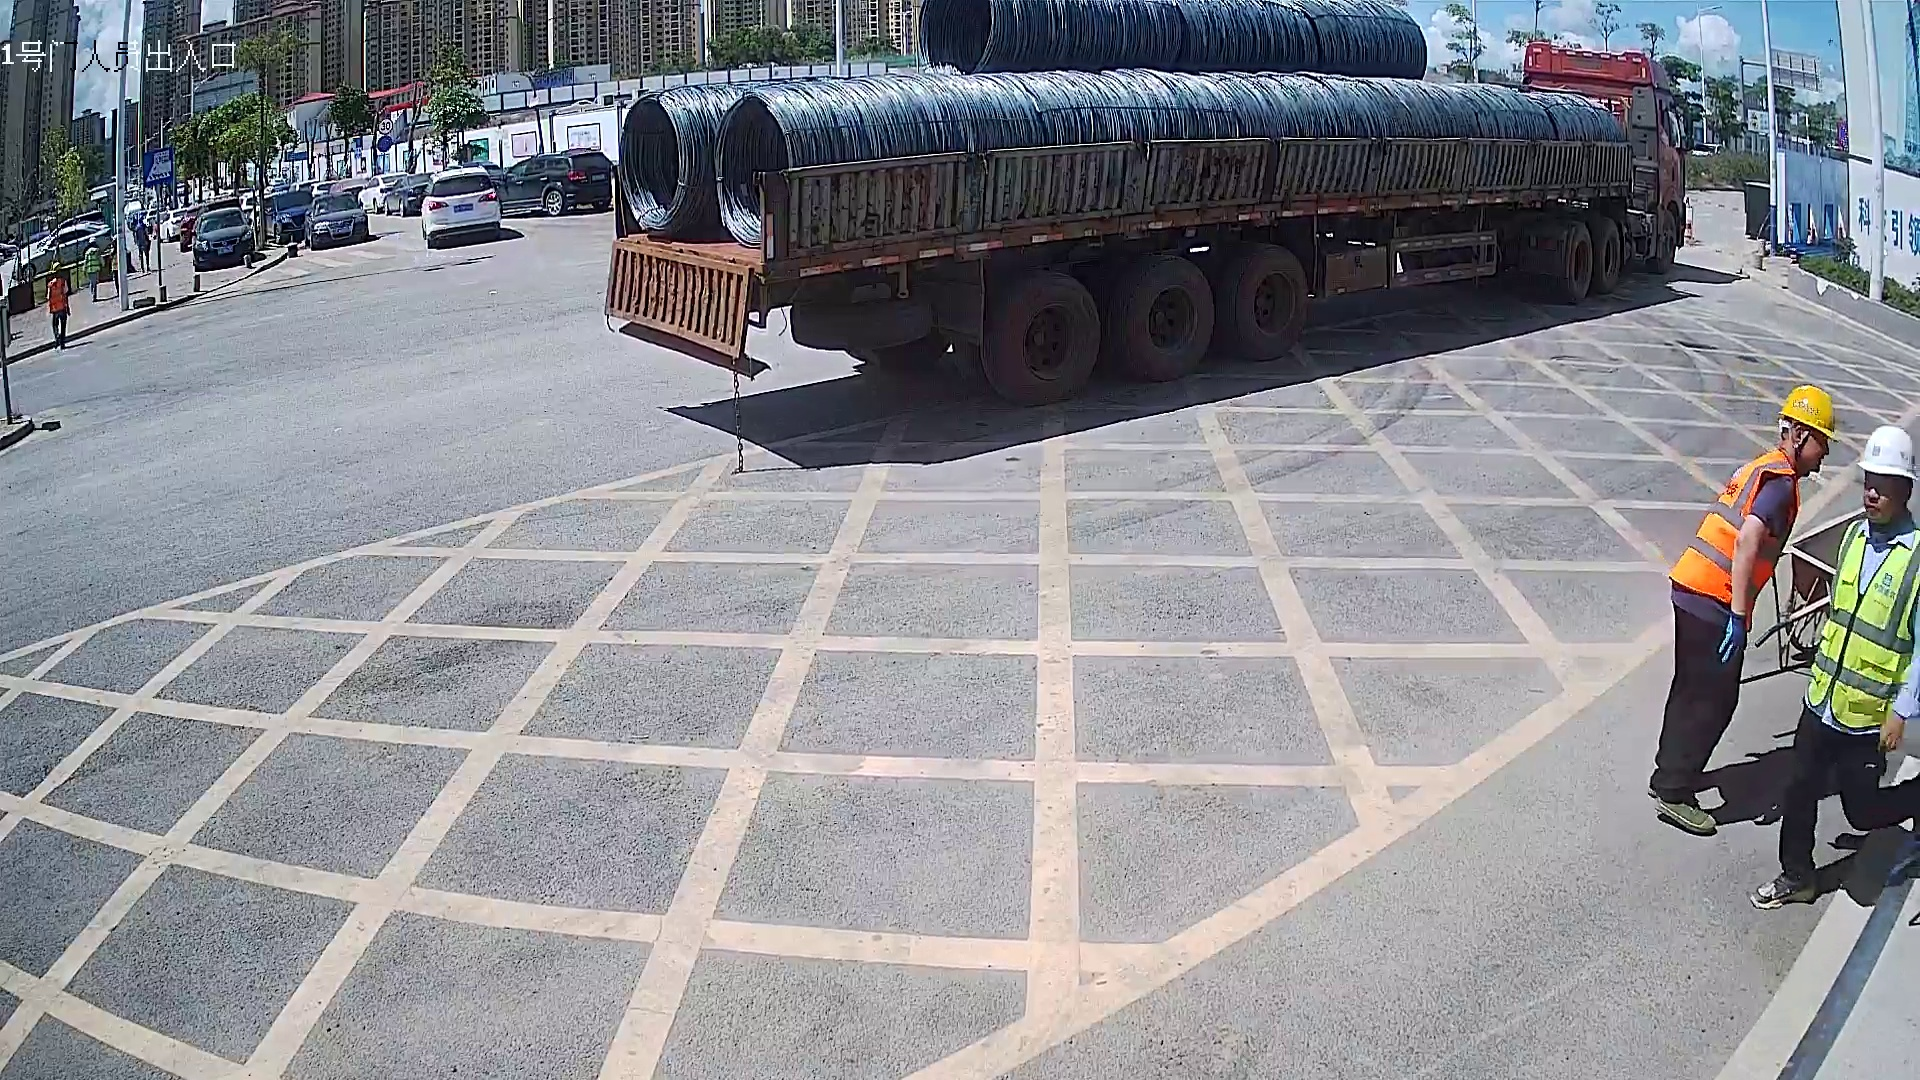person: (1646, 377, 1842, 838), (1743, 415, 1920, 914)
reflective_vest: (1665, 444, 1805, 634), (1801, 520, 1920, 731)
safety_helmet: (1774, 379, 1841, 477), (1854, 419, 1918, 524)
